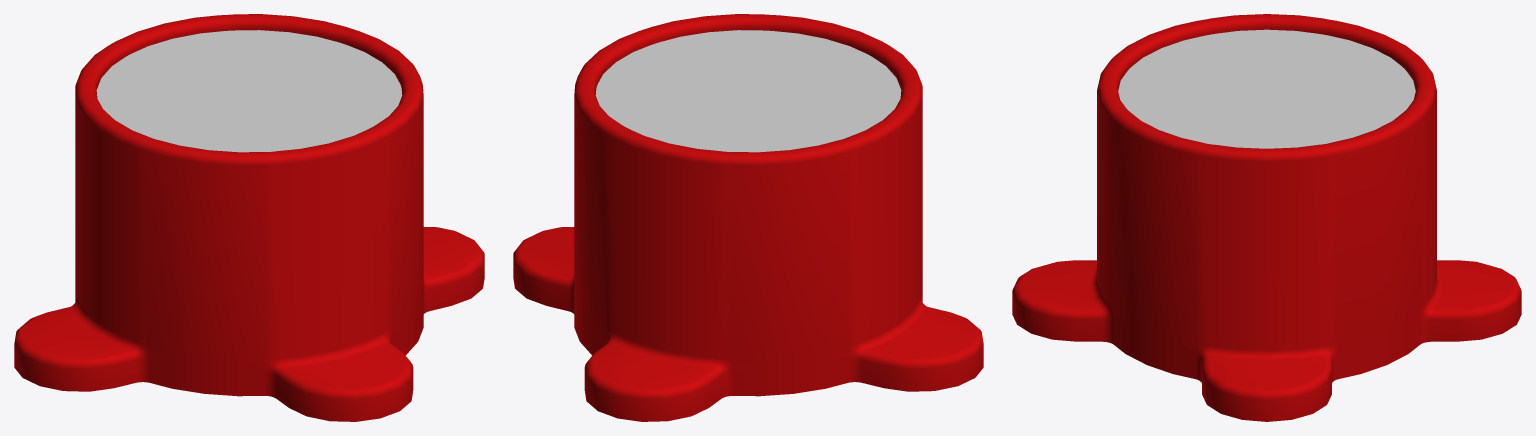
File: Manometr_1_UV 1.fbx
The picture shows the model from 3 angles, left to right: view 1: azimuth 30°, elevation 25°; view 2: azimuth 150°, elevation 25°; view 3: azimuth 270°, elevation 25°; orthographic projection. The views are drawn at different scales.
Parts seen in each view (by area): view 1: Body, Glass; view 2: Body, Glass; view 3: Body, Glass.
Part boxes in pixels (<box>): Body: <box>14,14,484,421</box>; Glass: <box>96,30,402,152</box>; Body: <box>513,14,983,421</box>; Glass: <box>595,30,901,152</box>; Body: <box>1012,14,1521,421</box>; Glass: <box>1118,29,1415,148</box>.
Bounding box in the file's own units: 30 × 15 × 30.
